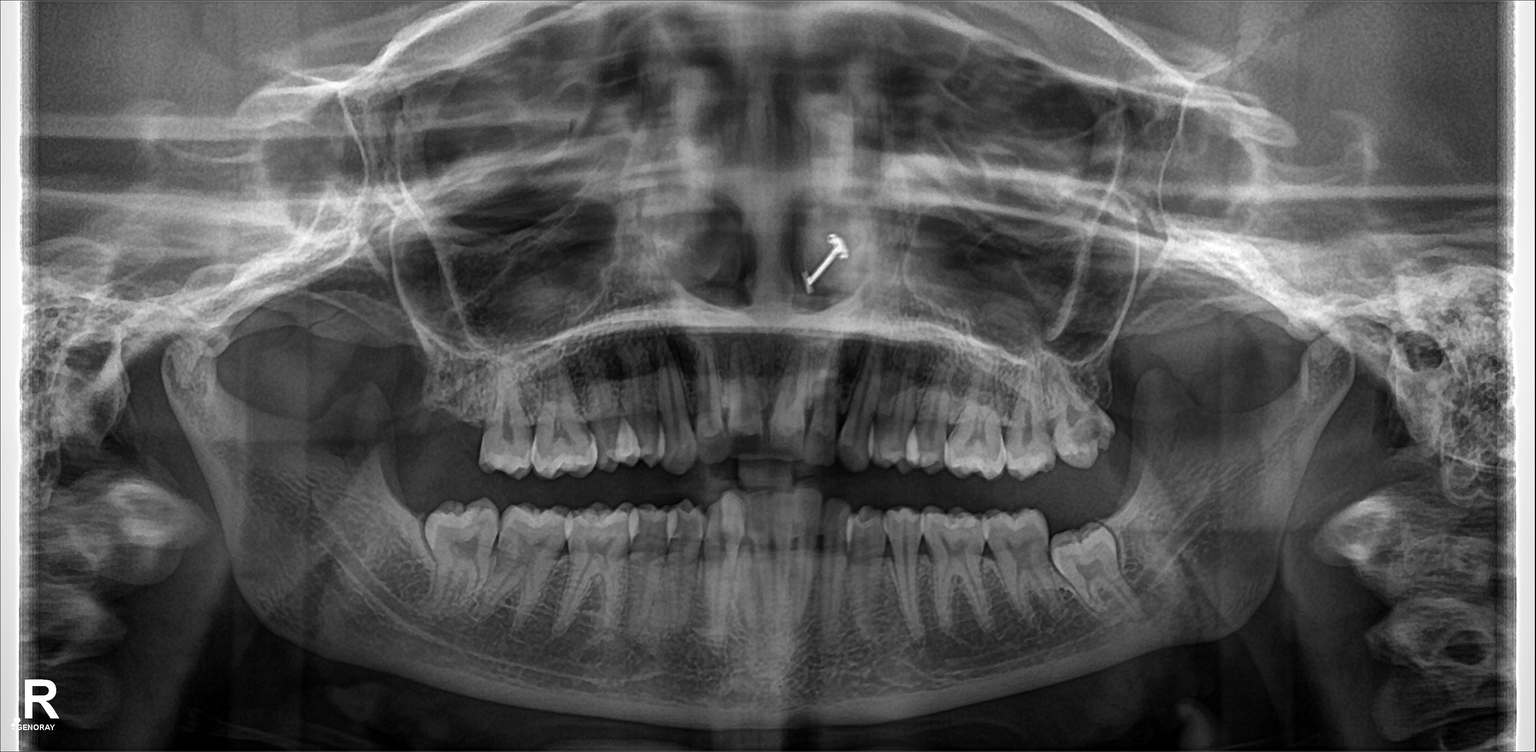Dental Caries: (1069, 413, 1110, 448)
Missing Tooth: (385, 359, 437, 453), (389, 478, 429, 570), (438, 374, 486, 450)
